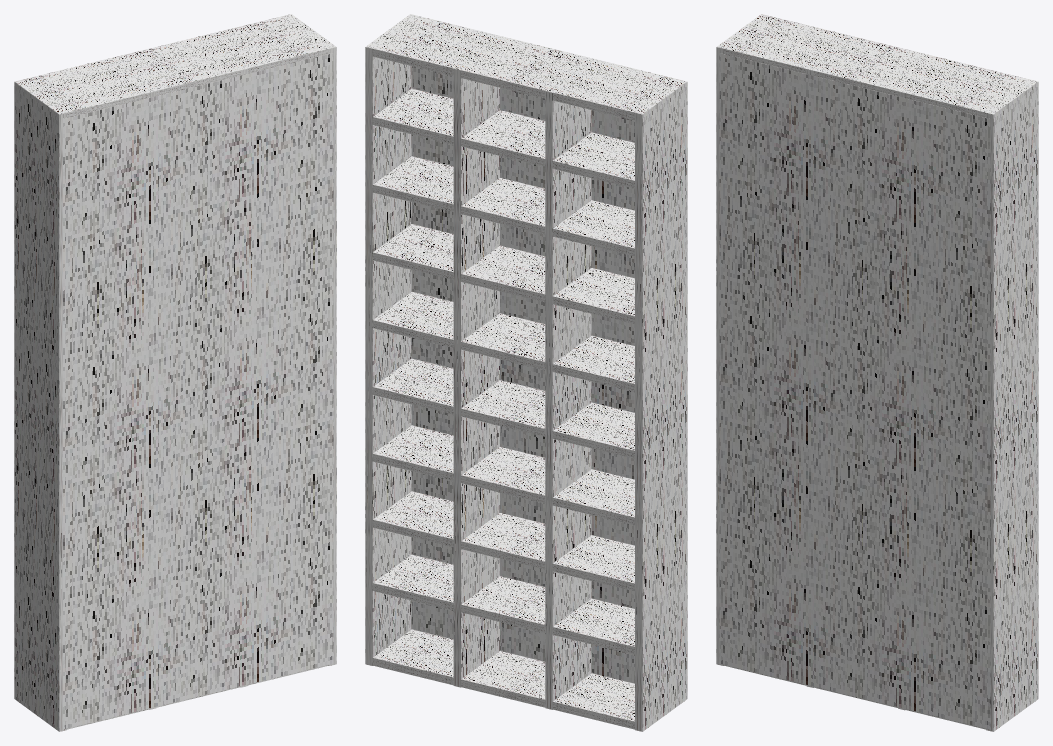
File: boobs_storage.glb
3 views of the same model, side by side, from view 1: azimuth 30°, elevation 25°; view 2: azimuth 150°, elevation 25°; view 3: azimuth 330°, elevation 25° (orthographic).
Visible parts, largest first — view 1: Куб, Куб.004; view 2: Куб.004, Куб; view 3: Куб, Куб.004.
Part boxes in pixels (box(x1,y1,x2,y2)): Куб: box(63, 53, 333, 729); Куб.004: box(14, 14, 336, 731); Куб.004: box(365, 14, 687, 731); Куб: box(411, 66, 634, 683); Куб: box(719, 53, 990, 729); Куб.004: box(716, 14, 1038, 731).
Size of the model in its own units: 11.51 by 24.48 by 3.25.
Materials: 1 (1 with a texture image).
